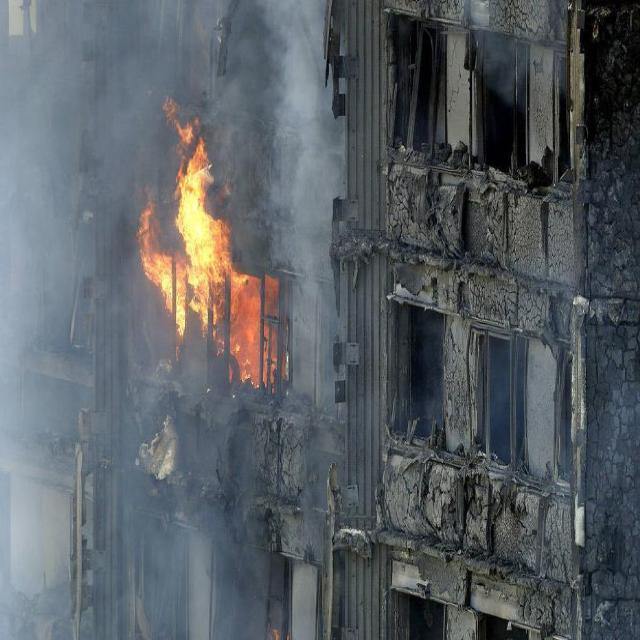Fire: (133, 100, 284, 394)
Smoke: (1, 1, 344, 634)
